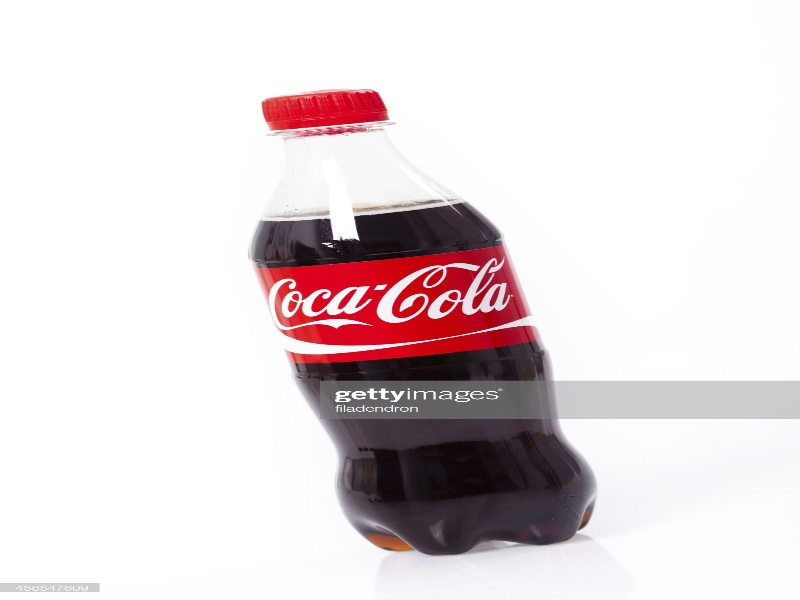coke-bottle-300ml: (241, 79, 603, 538)
